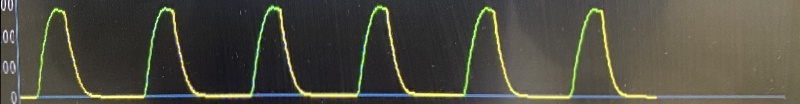normal_volume: (22, 0, 673, 104)
